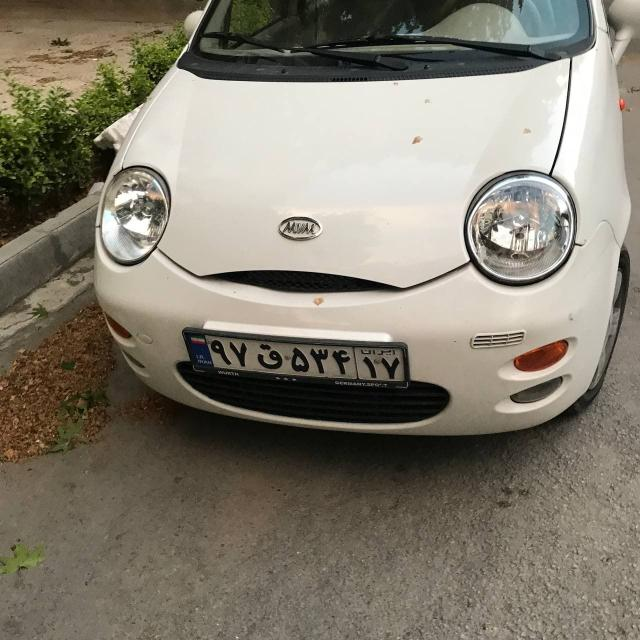Plates: (183, 335, 407, 383)
